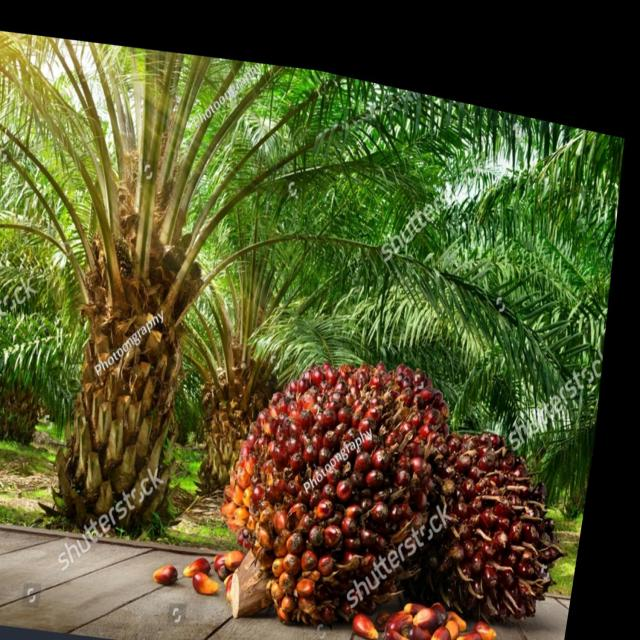Ripefruit: (207, 304, 476, 640), (436, 389, 595, 624)
